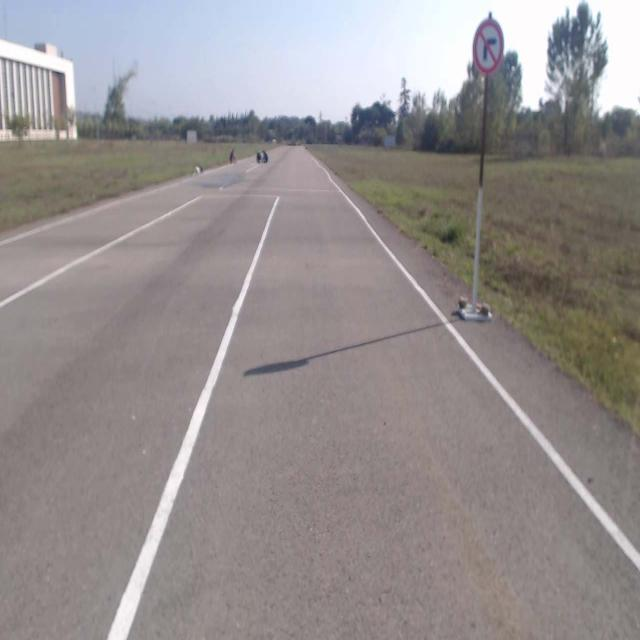sagadonulmez: (473, 20, 503, 75)
